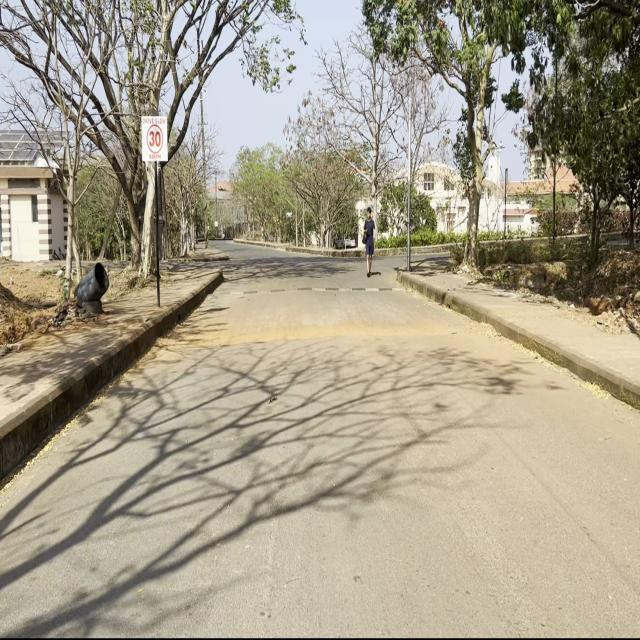Object: (361, 206, 376, 280)
Road: (4, 246, 639, 633)
